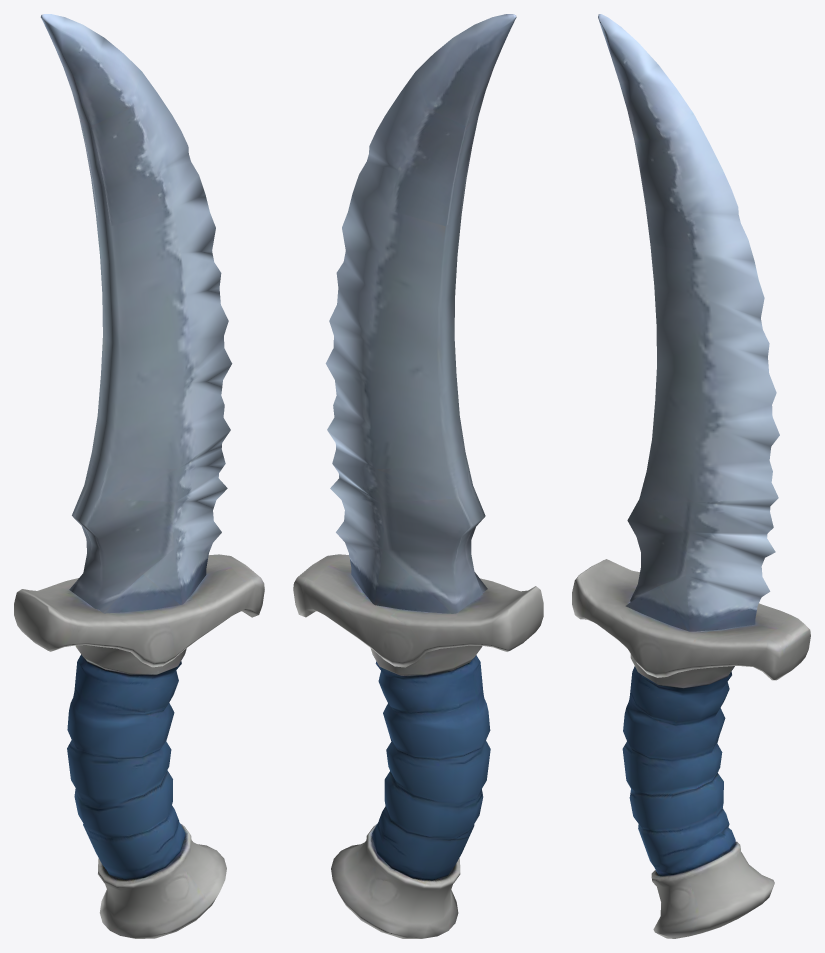
File: frostbite.glb
3 renders of one model, left to right at view 1: azimuth 30°, elevation 25°; view 2: azimuth 150°, elevation 25°; view 3: azimuth 330°, elevation 25°, orthographic. The views are drawn at different scales.
Parts seen in each view (by area): view 1: tripo_node_d2828059-dc1c-4443-ae5a-c9494c844272; view 2: tripo_node_d2828059-dc1c-4443-ae5a-c9494c844272; view 3: tripo_node_d2828059-dc1c-4443-ae5a-c9494c844272.
Part boxes in pixels (x1,y1,x2,y2): tripo_node_d2828059-dc1c-4443-ae5a-c9494c844272: (14, 14, 264, 938); tripo_node_d2828059-dc1c-4443-ae5a-c9494c844272: (293, 14, 543, 938); tripo_node_d2828059-dc1c-4443-ae5a-c9494c844272: (572, 14, 810, 938).
Bounding box in the file's own units: 0.317 × 1.28 × 0.1695.
1 material, 1 textured.
